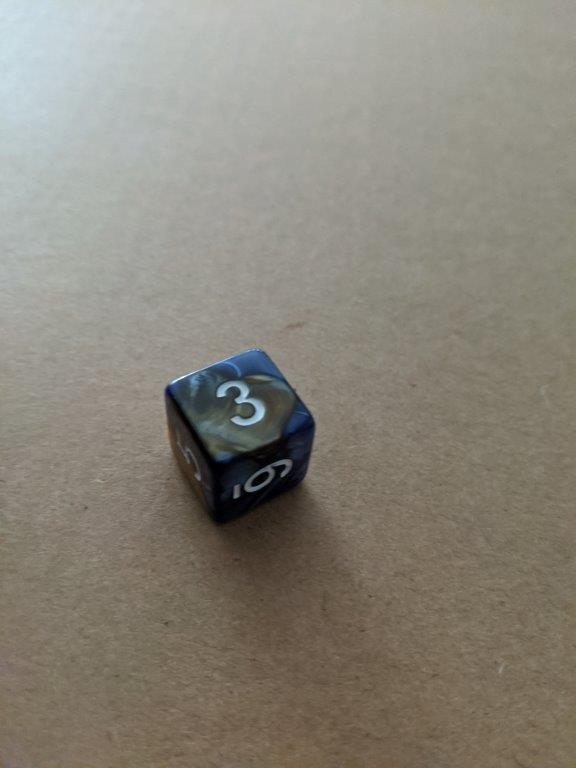d6-3: (164, 345, 315, 528)
